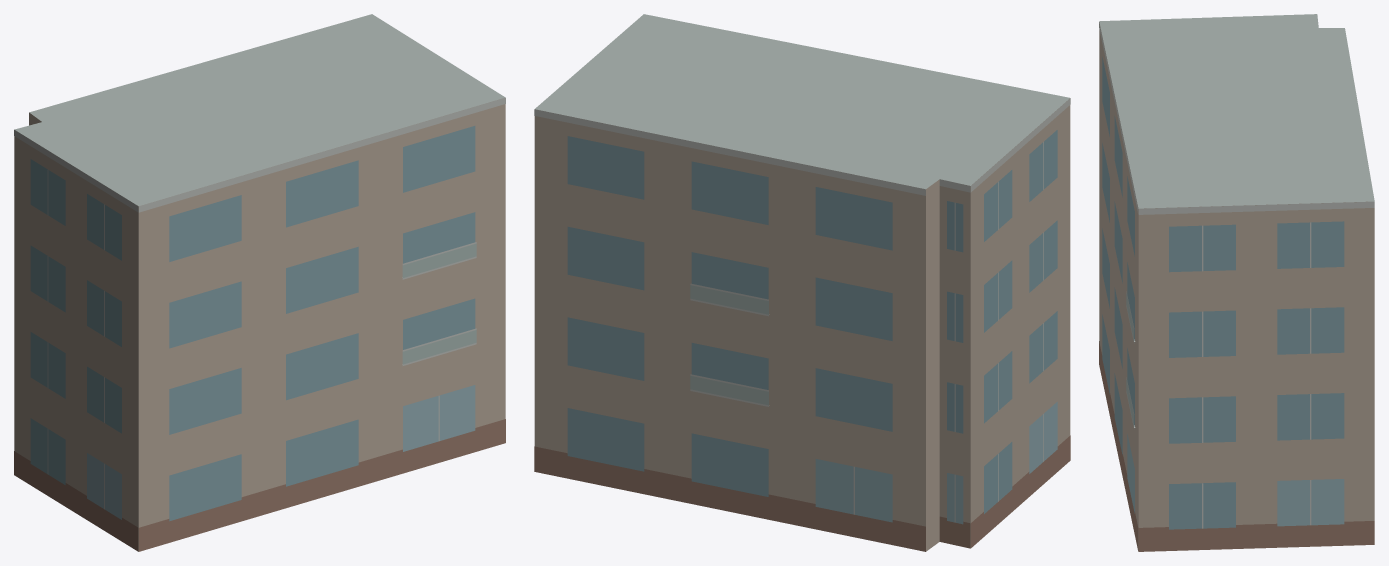
File: survey-upis-32918800.glb
3 renders of one model, left to right at view 1: azimuth 30°, elevation 25°; view 2: azimuth 150°, elevation 25°; view 3: azimuth 270°, elevation 25°, orthographic. The views are drawn at different scales.
Parts seen in each view (by area): view 1: survey-upis-32918800.tmp; view 2: survey-upis-32918800.tmp; view 3: survey-upis-32918800.tmp.
Part boxes in pixels (x1=…): survey-upis-32918800.tmp: x1=14, y1=14, x2=505, y2=551; survey-upis-32918800.tmp: x1=534, y1=14, x2=1070, y2=551; survey-upis-32918800.tmp: x1=1099, y1=14, x2=1374, y2=551.
Size of the model in its own units: 16.06 by 13.2 by 9.62.
